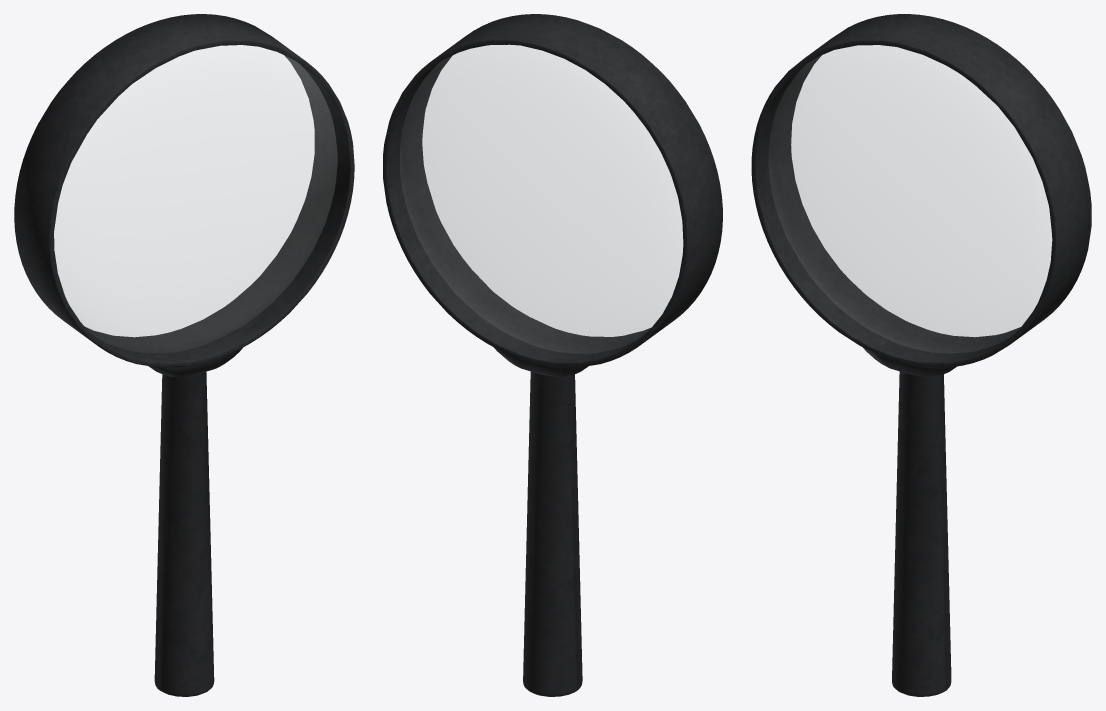
The model's file is magnifier.glb.
3 views of the same model, side by side, from view 1: azimuth 30°, elevation 25°; view 2: azimuth 150°, elevation 25°; view 3: azimuth 330°, elevation 25° (orthographic).
Parts seen in each view (by area): view 1: magnifying_glass_01; view 2: magnifying_glass_01; view 3: magnifying_glass_01.
Part boxes in pixels (<box>): magnifying_glass_01: <box>14,14,354,696</box>; magnifying_glass_01: <box>383,14,722,696</box>; magnifying_glass_01: <box>751,14,1091,696</box>.
Size of the model in its own units: 0.1321 by 0.2715 by 0.0267.
Materials: 2 (1 with a texture image).
